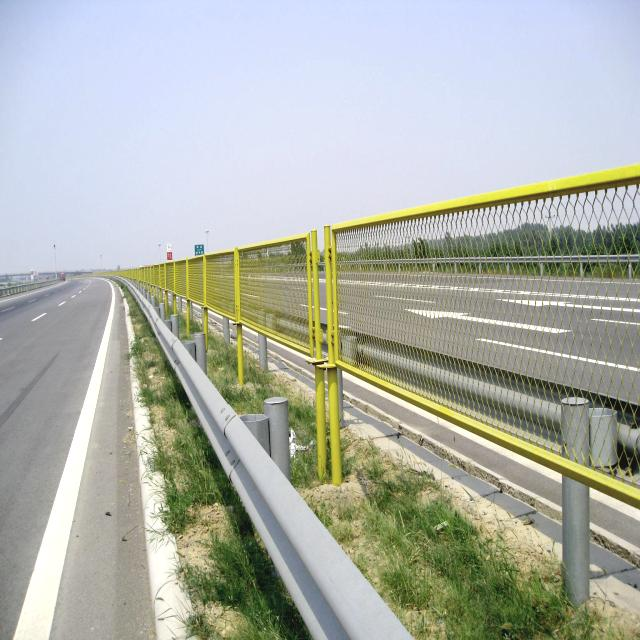Guard rail: (114, 277, 411, 638)
